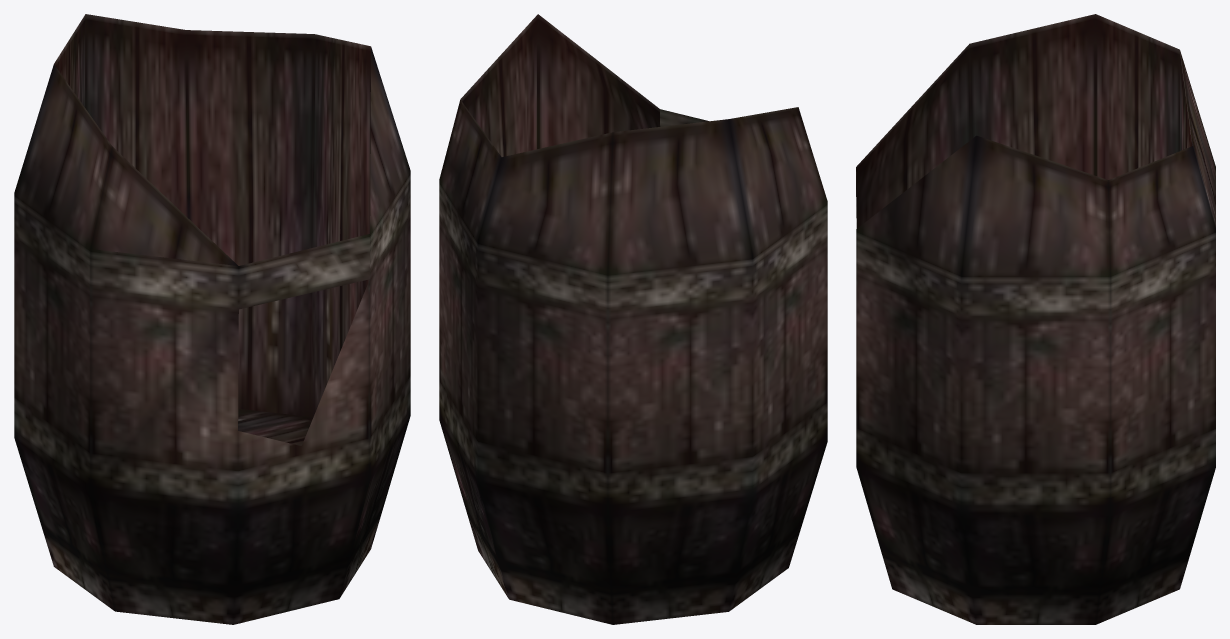
Rendered from OC_BARREL_V1_DESTROYED.glb.
3 views of the same model, side by side, from view 1: azimuth 30°, elevation 25°; view 2: azimuth 150°, elevation 25°; view 3: azimuth 270°, elevation 25° (orthographic). The views are drawn at different scales.
Visible parts, largest first — view 1: Mesh; view 2: Mesh; view 3: Mesh.
Boxes of the visible parts, x1=… form: Mesh: x1=14, y1=14, x2=410, y2=624; Mesh: x1=439, y1=14, x2=827, y2=624; Mesh: x1=856, y1=14, x2=1215, y2=624.
Size of the model in its own units: 0.7377 by 1.11 by 0.7382.
1 material, 1 textured.
